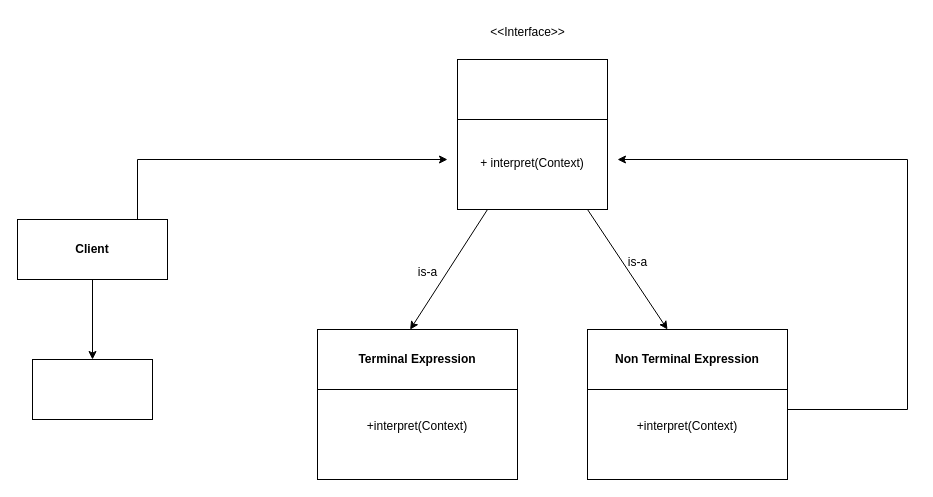
This 933x497 diagram has some shape labels left out. The shapes that lost their labels are listed below. From the top down, each one's centre as x and y in pixels, then its label:
At (532,89): "Abstract Expression".
At (92,389): "Context".
